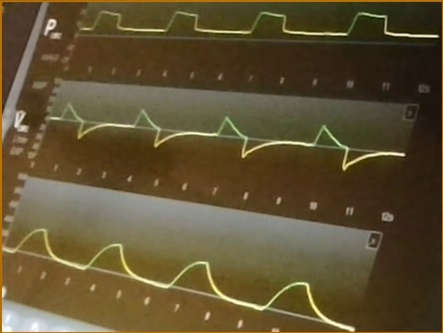Normal Flow: (50, 99, 404, 172)
Normal Volume: (4, 227, 353, 332)
